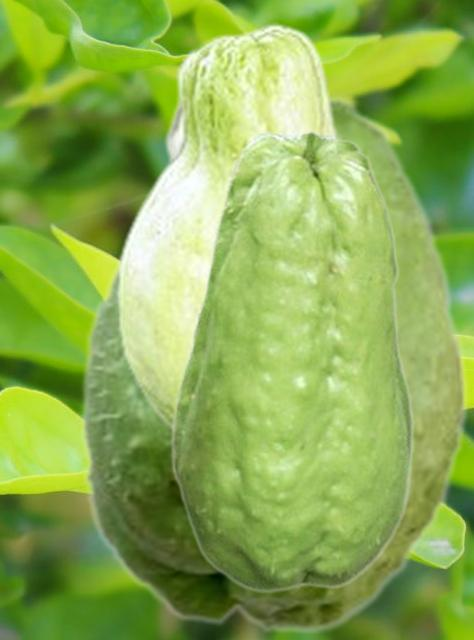sayote: (79, 93, 470, 635), (169, 129, 415, 594), (115, 22, 342, 432)
